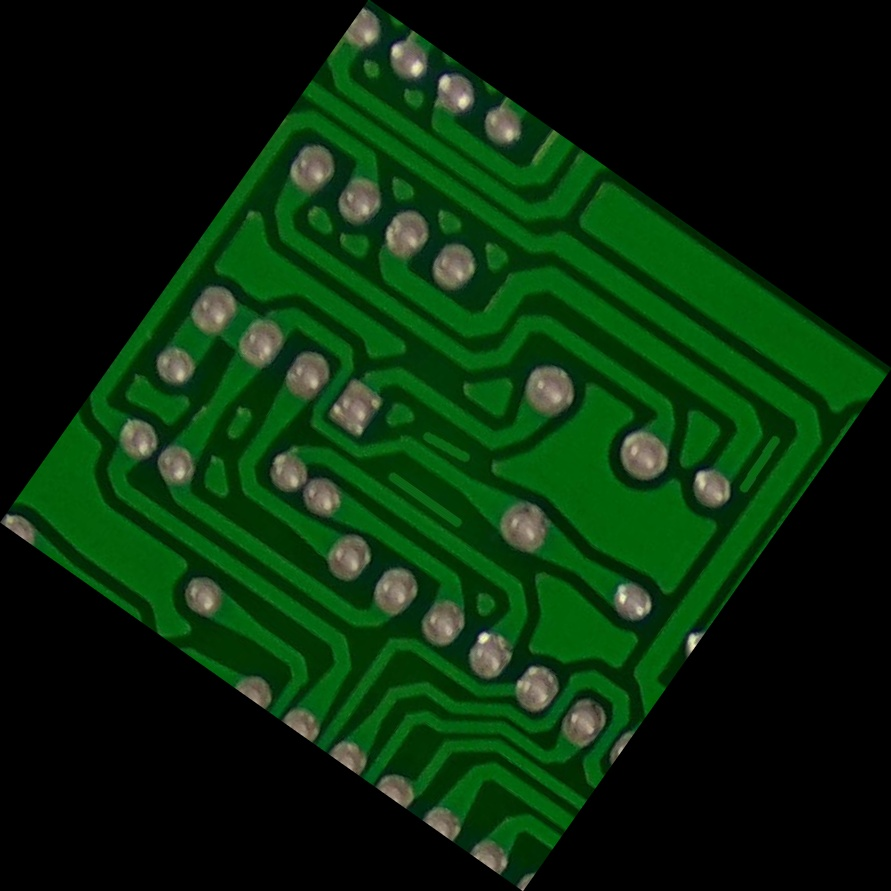spurious_copper: (407, 411, 484, 480)
